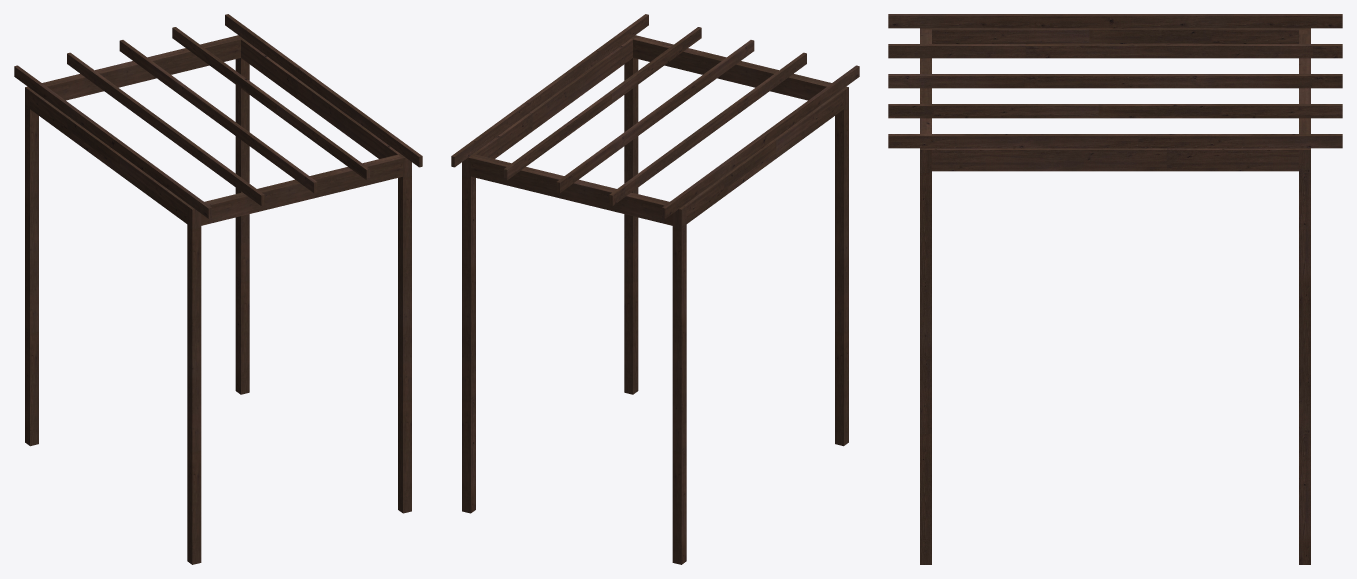
The model's file is pp-dokuritu_1k-8s_darkpine.fbx.
3 renders of one model, left to right at view 1: azimuth 30°, elevation 25°; view 2: azimuth 150°, elevation 25°; view 3: azimuth 270°, elevation 25°, orthographic. The views are drawn at different scales.
Visible parts, largest first — view 1: pp-dokuritu_1k-8s_darkpine; view 2: pp-dokuritu_1k-8s_darkpine; view 3: pp-dokuritu_1k-8s_darkpine.
Boxes of the visible parts, x1=… form: pp-dokuritu_1k-8s_darkpine: x1=14, y1=14, x2=422, y2=564; pp-dokuritu_1k-8s_darkpine: x1=451, y1=14, x2=859, y2=564; pp-dokuritu_1k-8s_darkpine: x1=888, y1=14, x2=1342, y2=564.
Size of the model in its own units: 187 by 298 by 287.
Materials: 1 (1 with a texture image).
